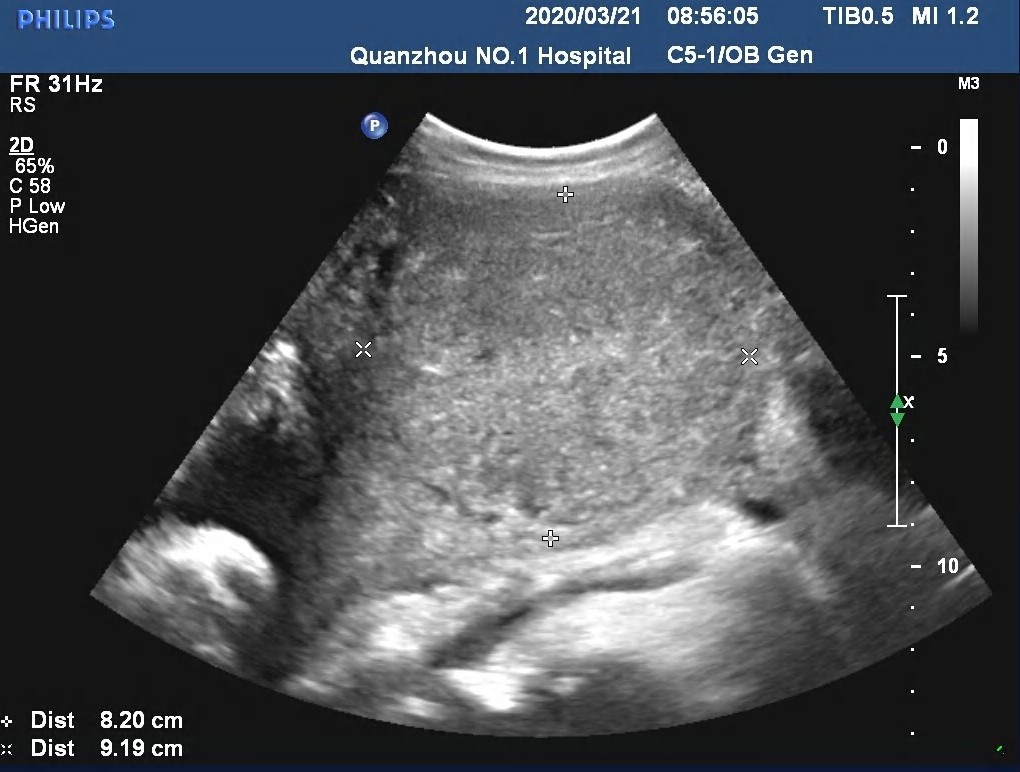肌瘤: (409, 206, 722, 517)
